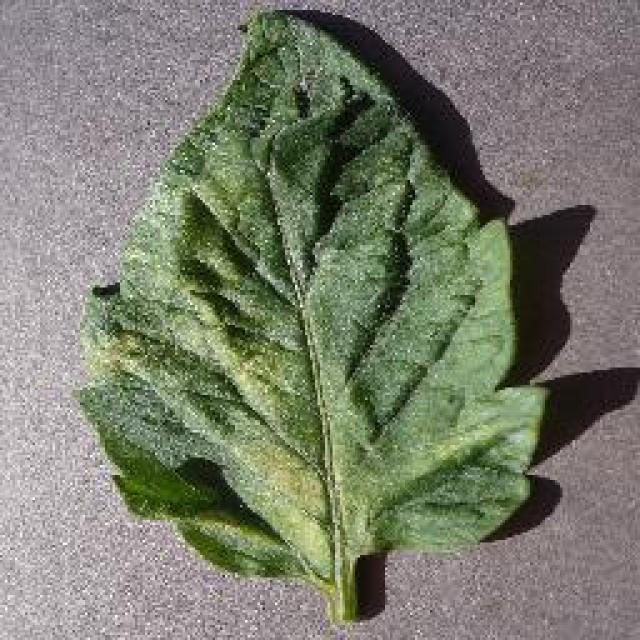Tom_Spider_mites Two-spotted_spider_mite: (130, 55, 375, 544)
